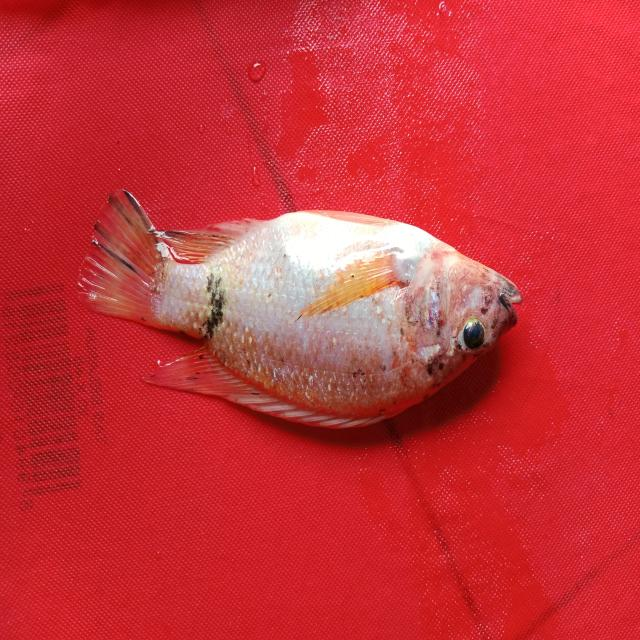ikan: (69, 164, 536, 450)
